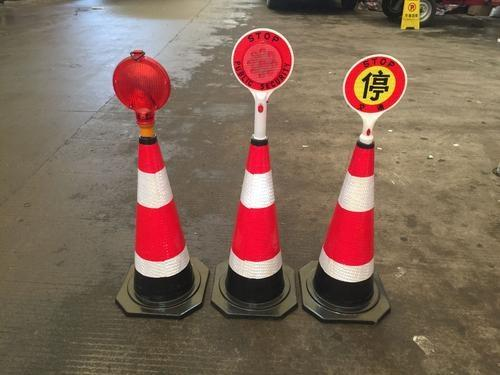cone_barrel: (107, 117, 195, 310), (308, 131, 386, 312), (216, 126, 293, 308)
